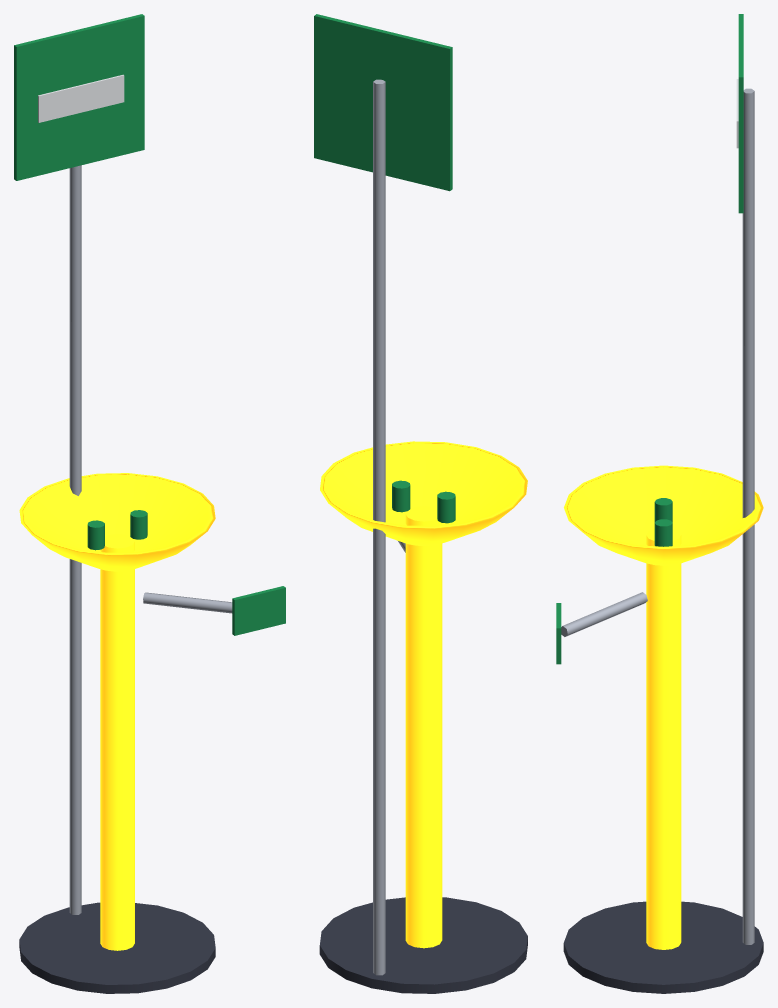
Rendered from ame-013.glb.
3 renders of one model, left to right at view 1: azimuth 30°, elevation 25°; view 2: azimuth 150°, elevation 25°; view 3: azimuth 270°, elevation 25°, orthographic. The views are drawn at different scales.
Visible parts, largest first — view 1: sign_yellow, safety_green, dark_steel, steel, white; view 2: sign_yellow, safety_green, dark_steel, steel; view 3: sign_yellow, dark_steel, steel, safety_green.
Boxes of the visible parts, bbox=[...] form: sign_yellow: bbox=[19, 473, 215, 950]; safety_green: bbox=[14, 14, 285, 635]; dark_steel: bbox=[19, 902, 215, 993]; steel: bbox=[69, 165, 232, 914]; white: bbox=[38, 74, 124, 122]; sign_yellow: bbox=[320, 441, 527, 948]; safety_green: bbox=[314, 14, 455, 523]; dark_steel: bbox=[319, 897, 527, 993]; steel: bbox=[373, 79, 405, 975]; sign_yellow: bbox=[564, 465, 763, 949]; dark_steel: bbox=[563, 901, 763, 993]; steel: bbox=[561, 88, 754, 944]; safety_green: bbox=[556, 14, 743, 664].
Bounding box in the file's own units: 0.47 × 2 × 0.415.
